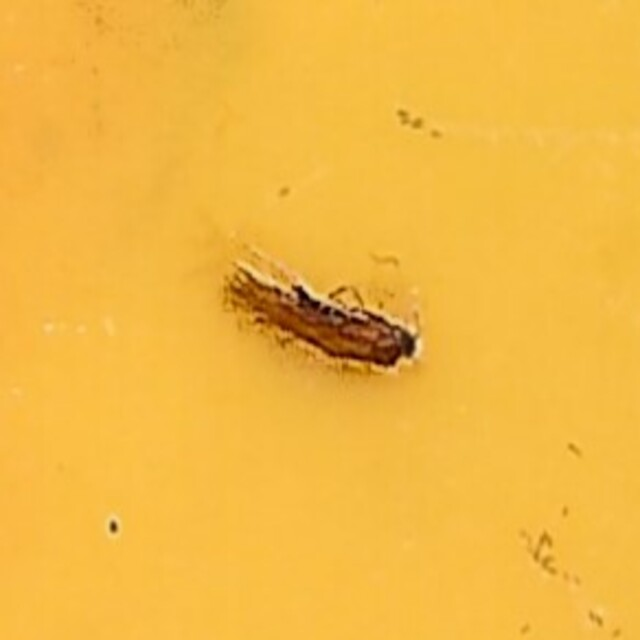Trichoptera: (219, 262, 421, 378)
